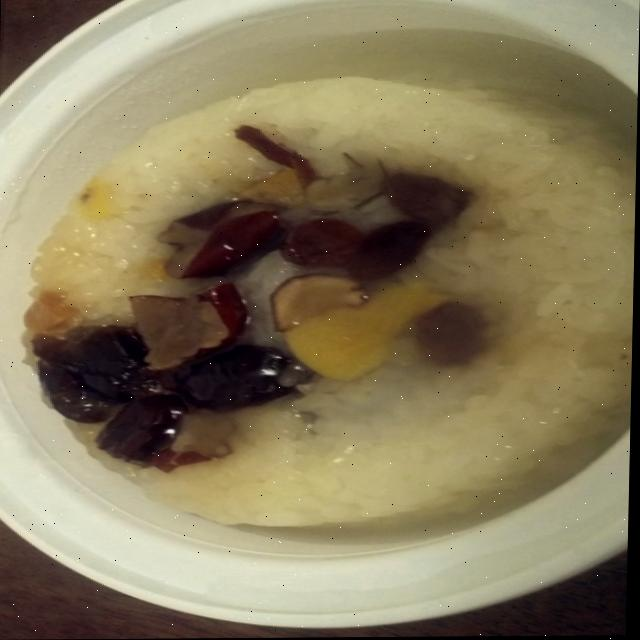米饭主食: (21, 49, 639, 541)
